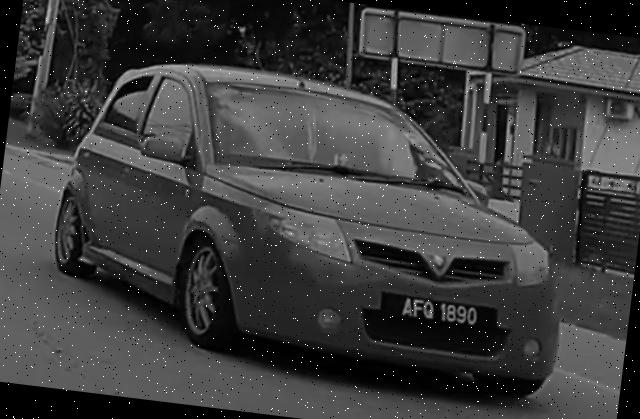License_Plate: (380, 290, 487, 331)
car: (42, 46, 590, 402)
